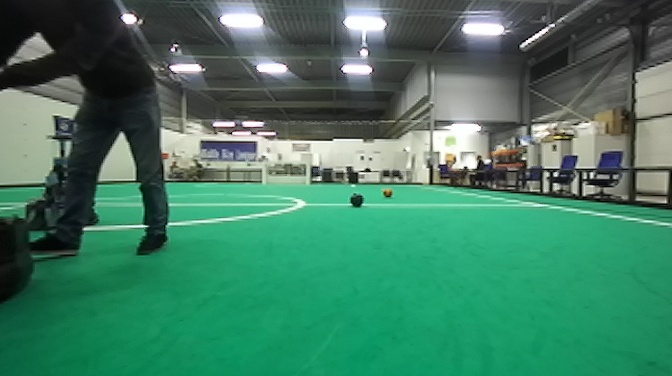ball: (346, 192, 366, 209), (380, 187, 393, 200)
goal: (260, 163, 311, 186)
goalpost: (260, 163, 267, 184), (305, 163, 311, 186)
human: (1, 1, 177, 261)
robot: (22, 112, 102, 228)
